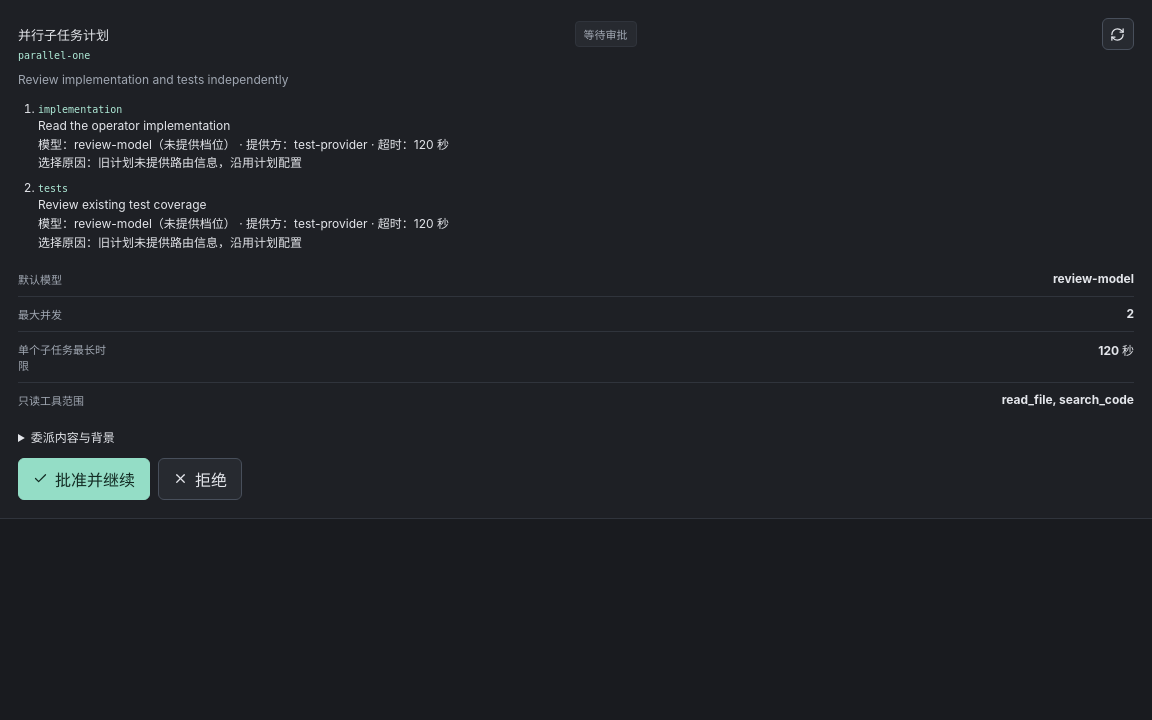
Test: ParallelPlanCard › approves the reviewed digest once, then requests continuation of the exact plan
Click the button "批准并继续" at (84, 479), box x1=18 y1=458 x2=150 y2=500
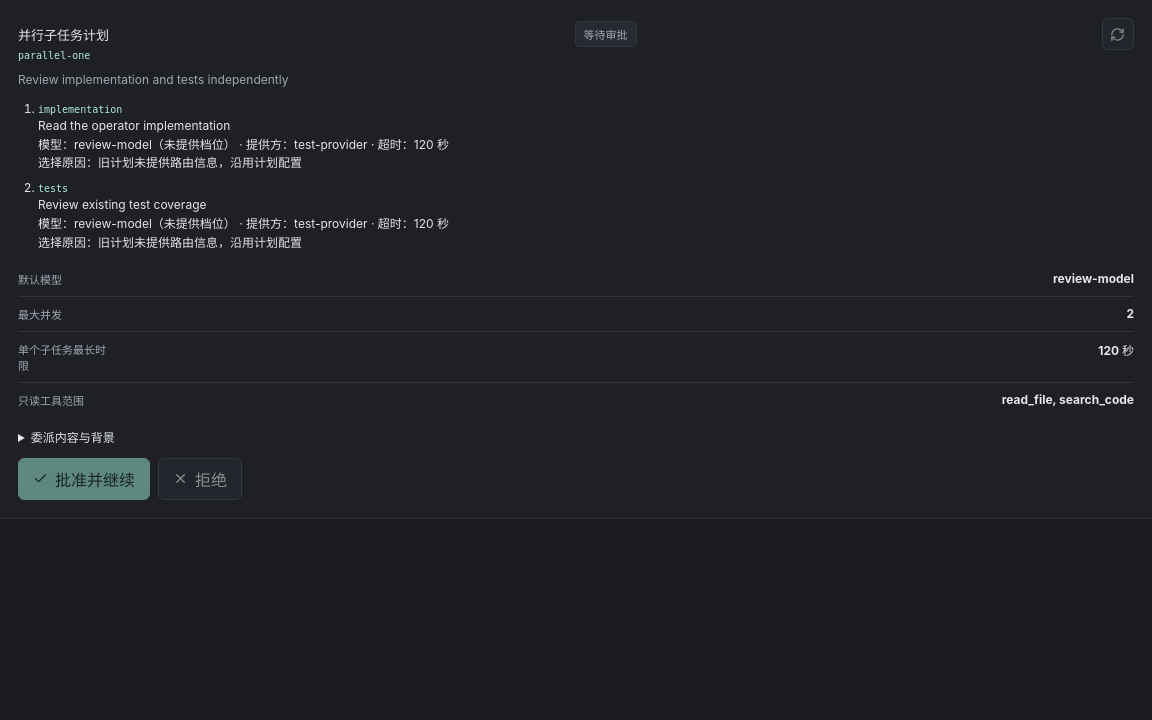
Click the button "批准并继续" at (84, 479), box x1=18 y1=458 x2=150 y2=500
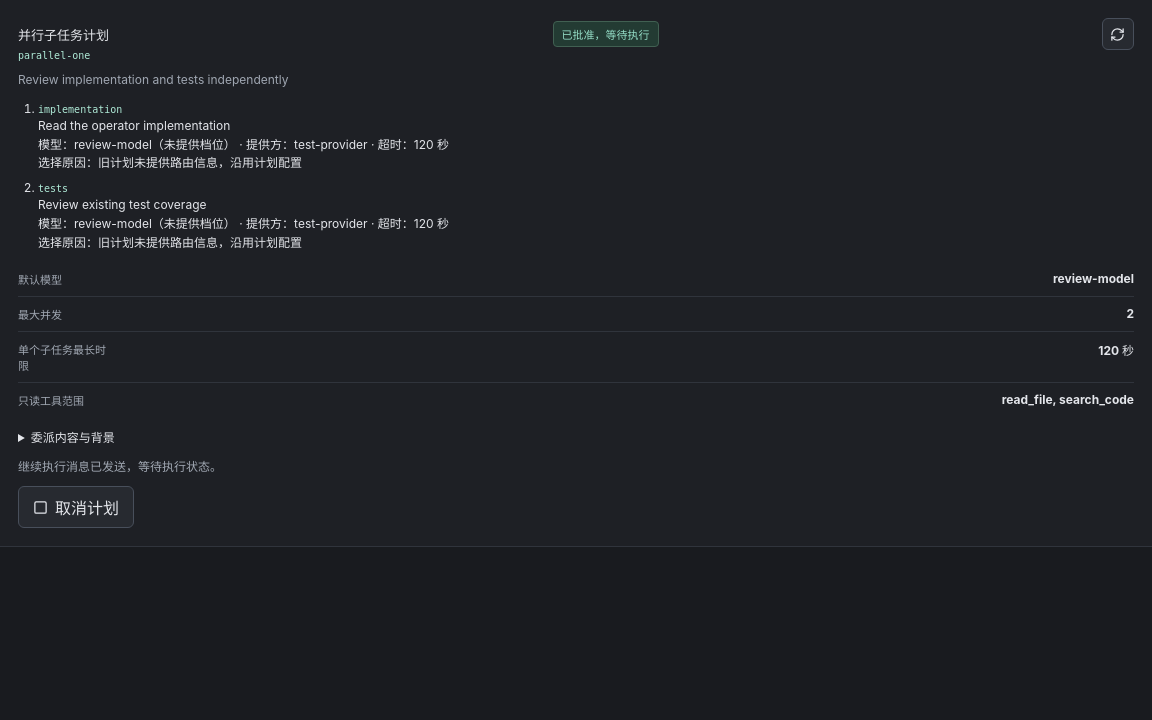
Now the text "继续执行消息已发送，等待执行状态。" is shown, box x1=18 y1=459 x2=222 y2=474
